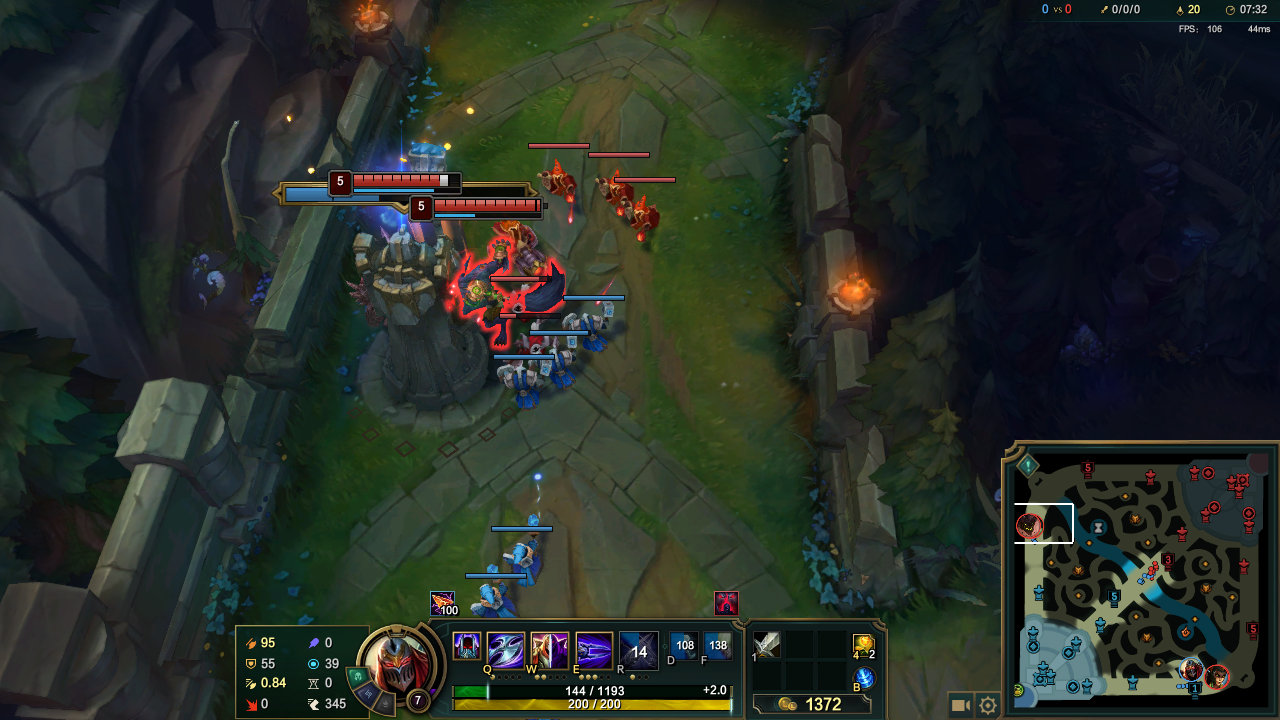DFYX: (351, 174, 463, 193), (433, 199, 541, 218)
